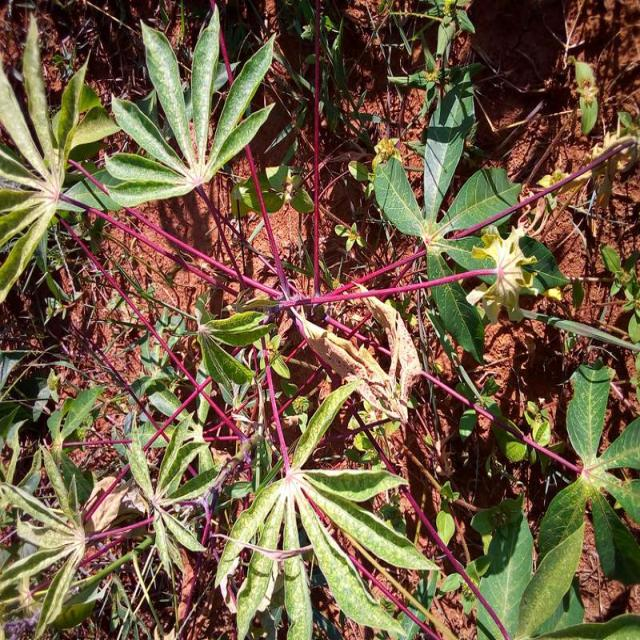cassava leaf: (214, 379, 436, 638), (103, 4, 277, 209)
